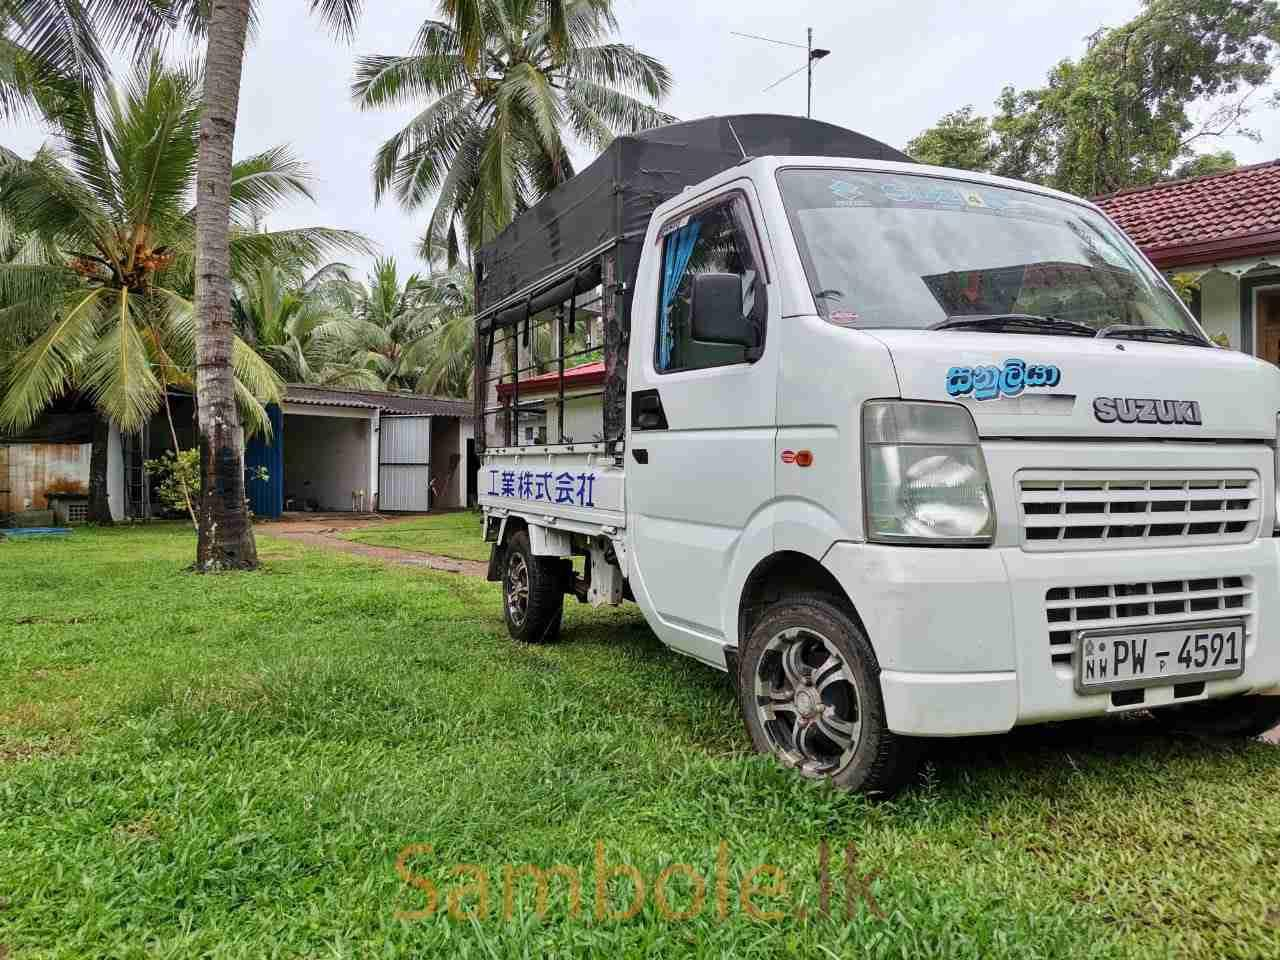truck: (473, 115, 1280, 801)
